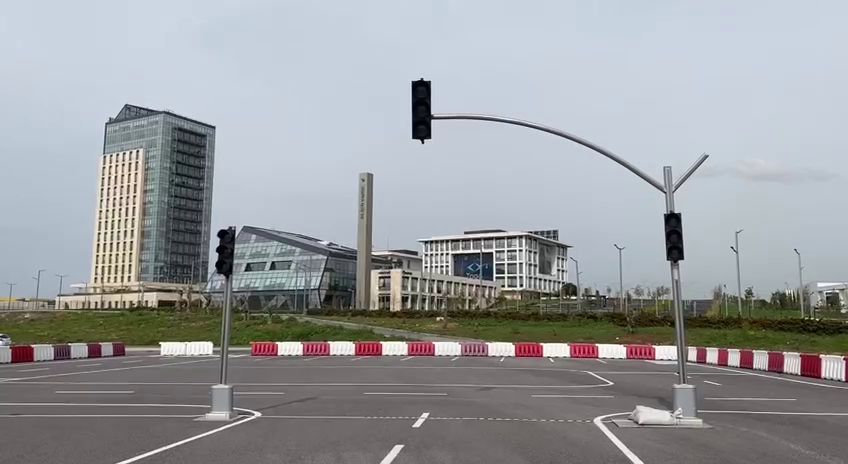trafficLight: (406, 74, 437, 146), (659, 206, 689, 265), (214, 222, 241, 279)
